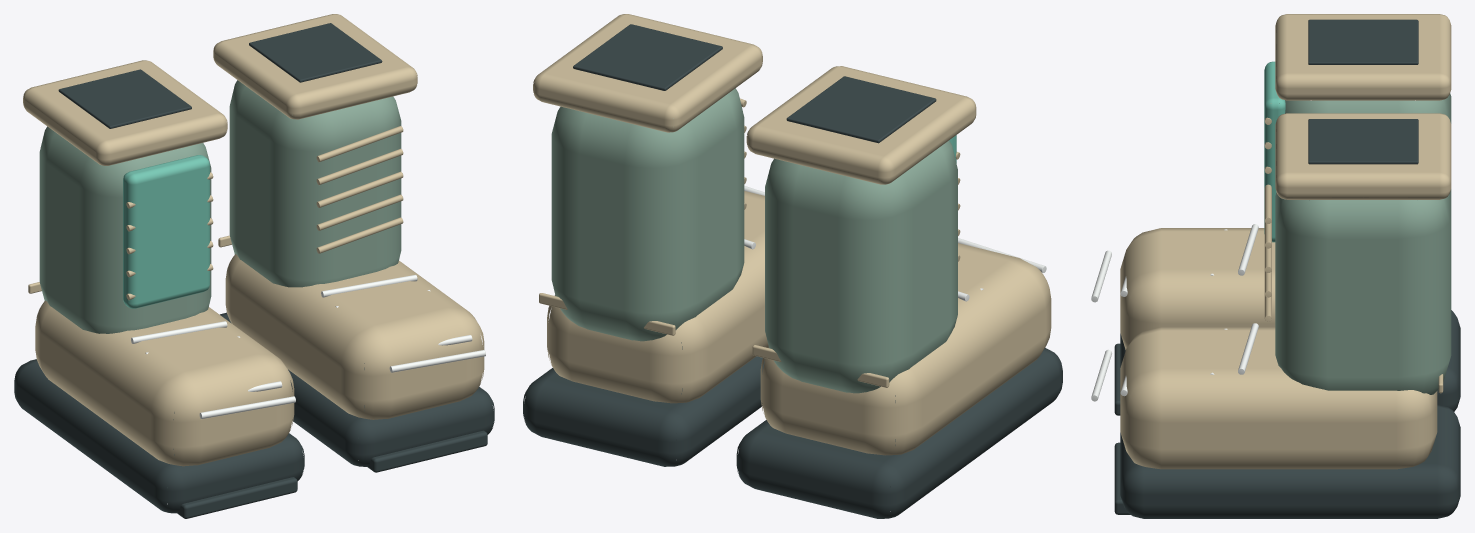
The model's file is field_boots.glb.
The picture shows the model from 3 angles, left to right: view 1: azimuth 30°, elevation 25°; view 2: azimuth 150°, elevation 25°; view 3: azimuth 270°, elevation 25°; orthographic projection. The views are drawn at different scales.
Visible parts, largest first — view 1: Boot_Foot, Boot_Ankle_2, Boot_Foot_2, Boot_Ankle, Rubber_Outsole, Padded_Tongue, Cuff, Cuff_2, Rubber_Outsole_2, Cuff_Opening, Cuff_Opening_2, Tread_16 (+10 smaller); view 2: Boot_Ankle_2, Boot_Ankle, Boot_Foot, Rubber_Outsole, Boot_Foot_2, Rubber_Outsole_2, Cuff, Cuff_2, Cuff_Opening, Cuff_Opening_2, Heel_Seam, Heel_Seam_2; view 3: Boot_Foot_2, Boot_Ankle_2, Rubber_Outsole_2, Boot_Foot, Cuff_2, Cuff, Cuff_Opening_2, Cuff_Opening, Boot_Ankle, Padded_Tongue, Rubber_Outsole, Tread_16 (+1 smaller).
Boxes of the visible parts, x1,y1,x2,y2 form: Boot_Foot: (35,300,294,466); Boot_Ankle_2: (229,80,401,287); Boot_Foot_2: (225,254,484,419); Boot_Ankle: (39,126,211,333); Rubber_Outsole: (14,359,304,513); Padded_Tongue: (123,155,209,308); Cuff: (23,60,227,165); Cuff_2: (213,14,417,119); Rubber_Outsole_2: (220,312,494,466); Cuff_Opening: (58,69,191,128); Cuff_Opening_2: (249,23,382,82); Tread_16: (367,430,487,472); Boot_Ankle_2: (551,88,744,341); Boot_Ankle: (765,140,957,393); Boot_Foot: (760,243,1051,455); Rubber_Outsole: (736,347,1062,518); Boot_Foot_2: (547,191,768,403); Rubber_Outsole_2: (523,342,764,466); Cuff: (746,66,976,184); Cuff_2: (533,14,762,132); Cuff_Opening: (786,76,936,143); Cuff_Opening_2: (573,24,722,90); Heel_Seam: (752,345,889,387); Heel_Seam_2: (539,293,675,335); Boot_Foot_2: (1120,327,1437,469); Boot_Ankle_2: (1275,192,1451,394); Rubber_Outsole_2: (1120,404,1460,518); Boot_Foot: (1120,228,1275,349); Cuff_2: (1275,113,1451,199); Cuff: (1275,14,1451,100); Cuff_Opening_2: (1308,119,1418,164); Cuff_Opening: (1308,19,1418,64); Boot_Ankle: (1279,93,1451,200); Padded_Tongue: (1264,61,1285,242); Rubber_Outsole: (1120,310,1460,411); Tread_16: (1114,442,1130,514).
Bounding box in the file's own units: 0.355 × 0.3275 × 0.3149.
